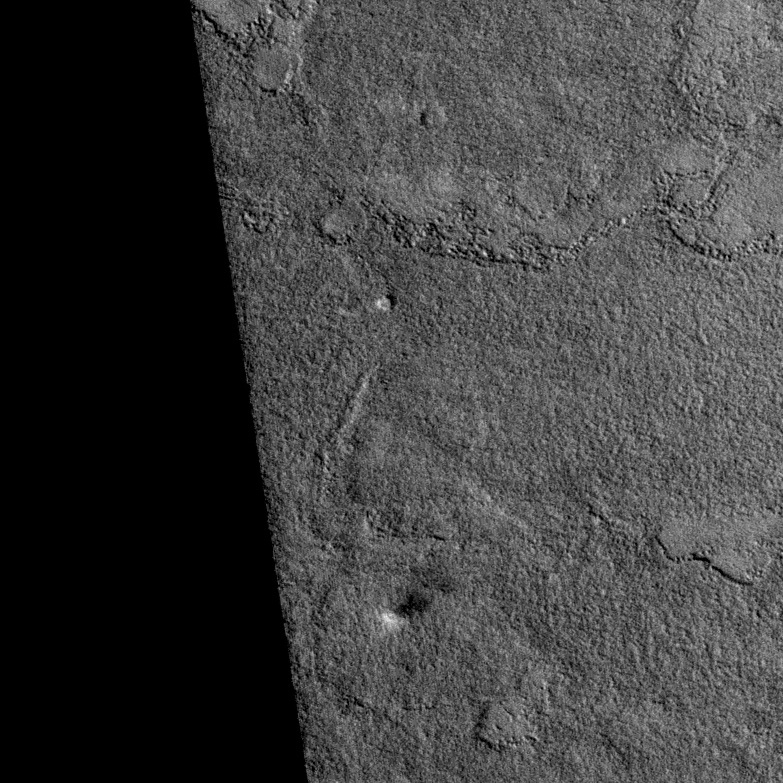dust_devil: (377, 589, 432, 627)
